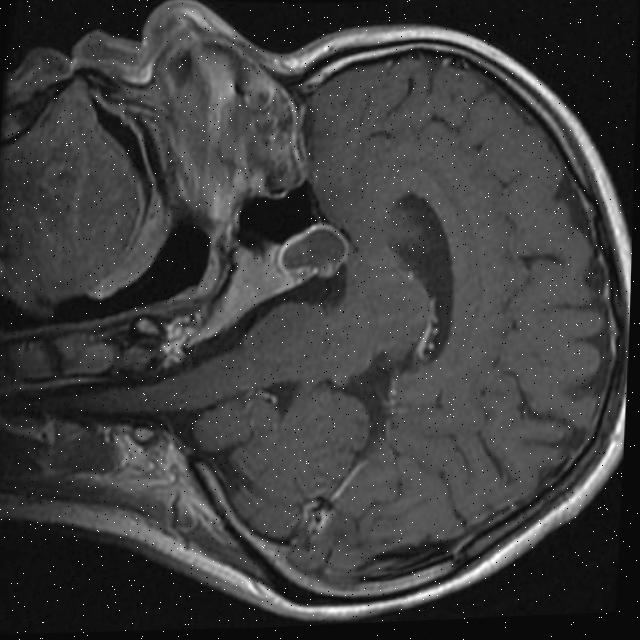Pituitary: (275, 220, 350, 280)
